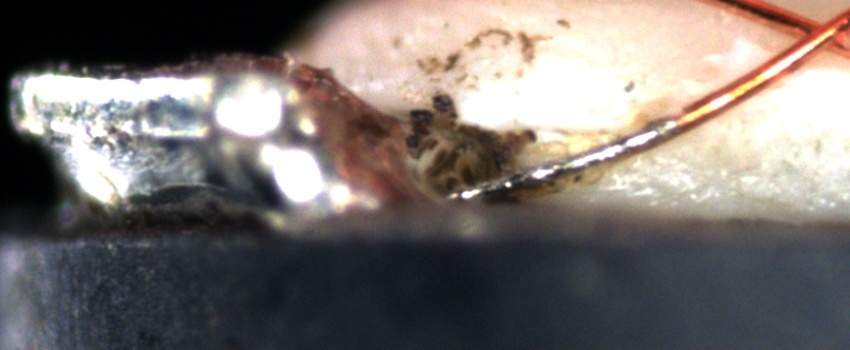CL: (775, 4, 845, 63)
TS: (451, 120, 678, 202)
